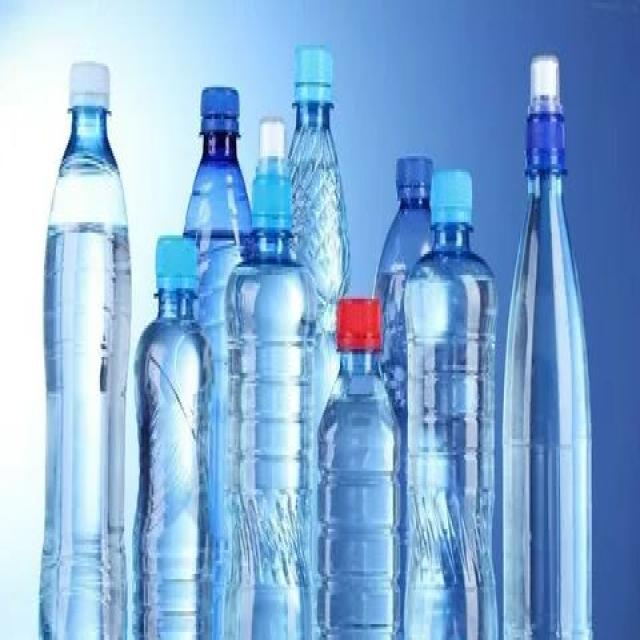blue: (402, 226, 498, 640), (221, 232, 311, 640), (132, 291, 212, 640), (290, 111, 348, 284)
